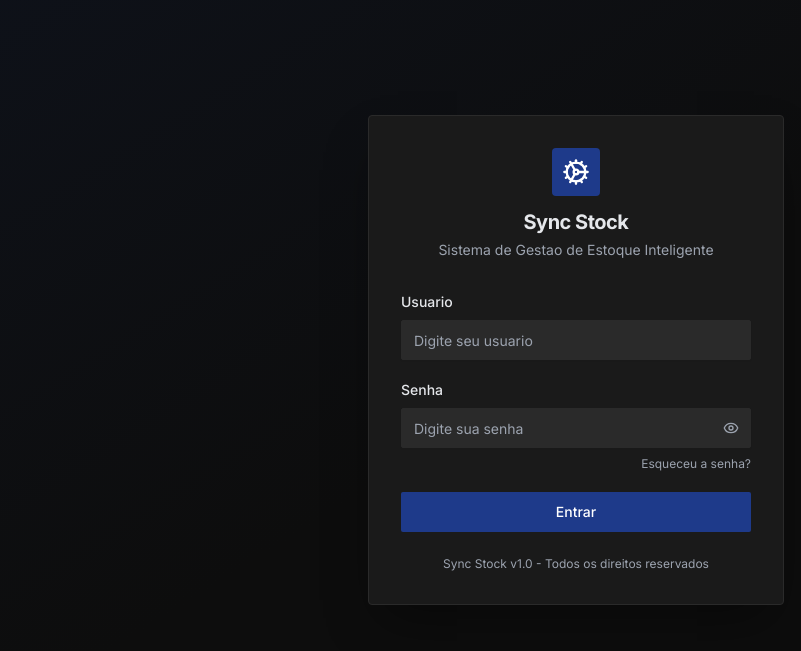
it: LoginScreen › shows an api error message when login fails
The image size is (801, 651).
Expected: the button "Entrar" is enabled, [401,492,751,532]
Type "admin" into the field labelled "Usuario" at x=576, y=340, box [401,320,751,360]
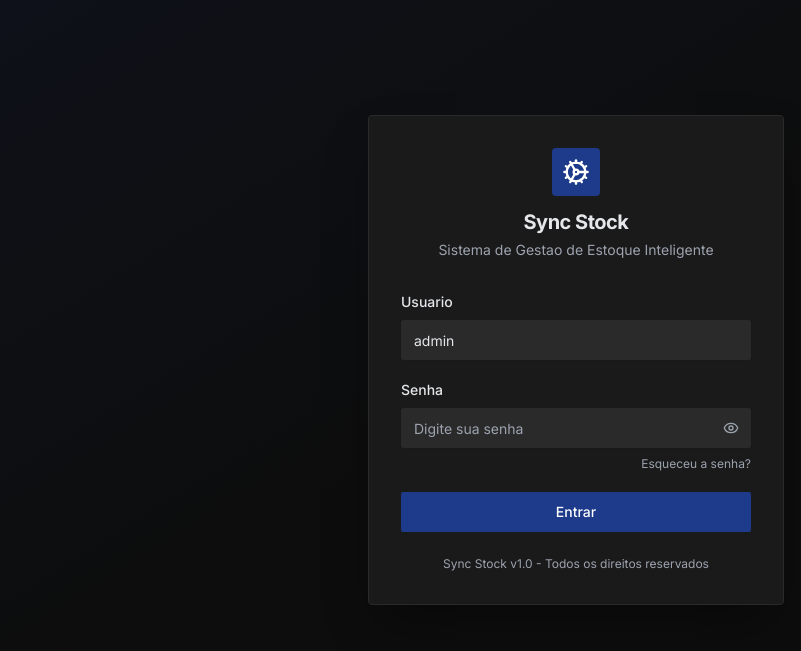
Type "senha-errada" into the password field labelled "Senha" at x=576, y=428, box [401,408,751,448]
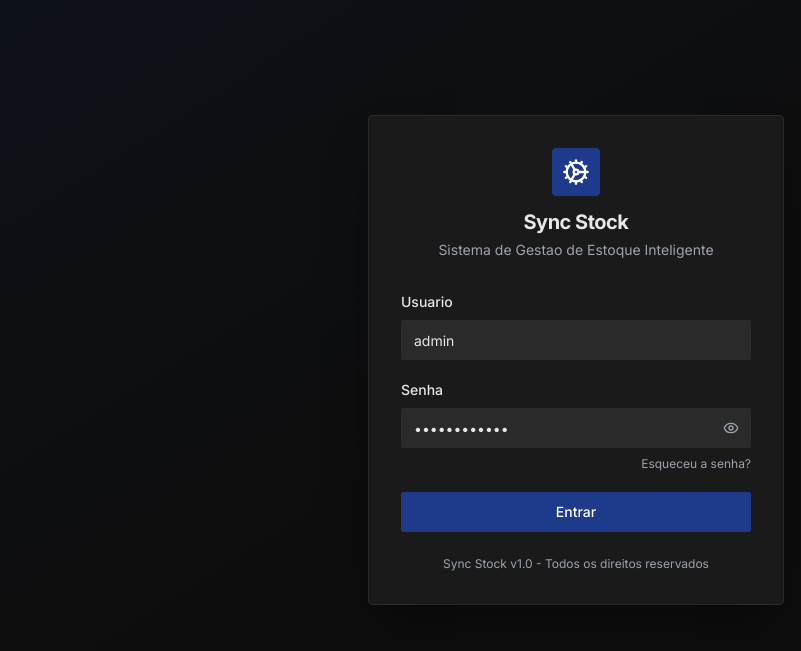
Click the button "Entrar" at x=576, y=512, box [401,492,751,532]
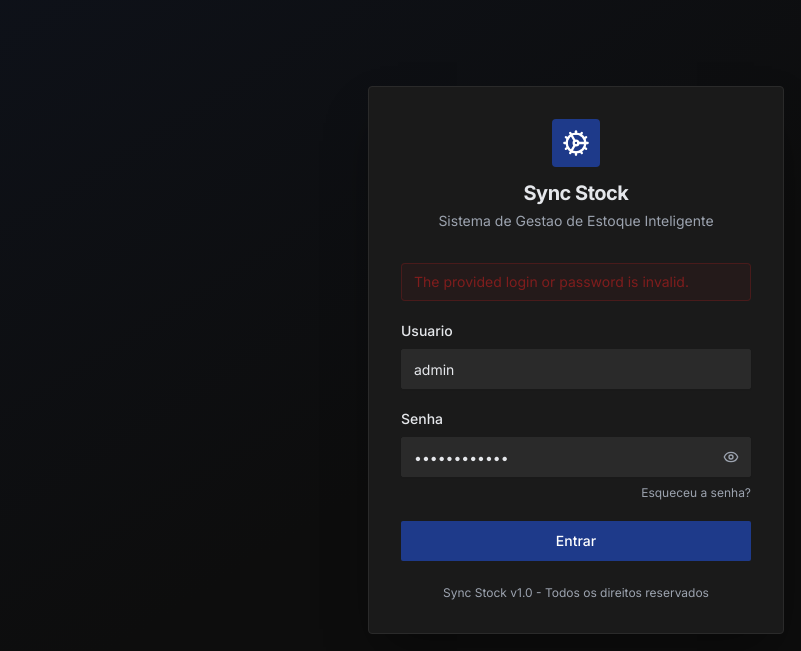
Expected: the message reads "The provided login or password is invalid.", [414,273,689,290]
